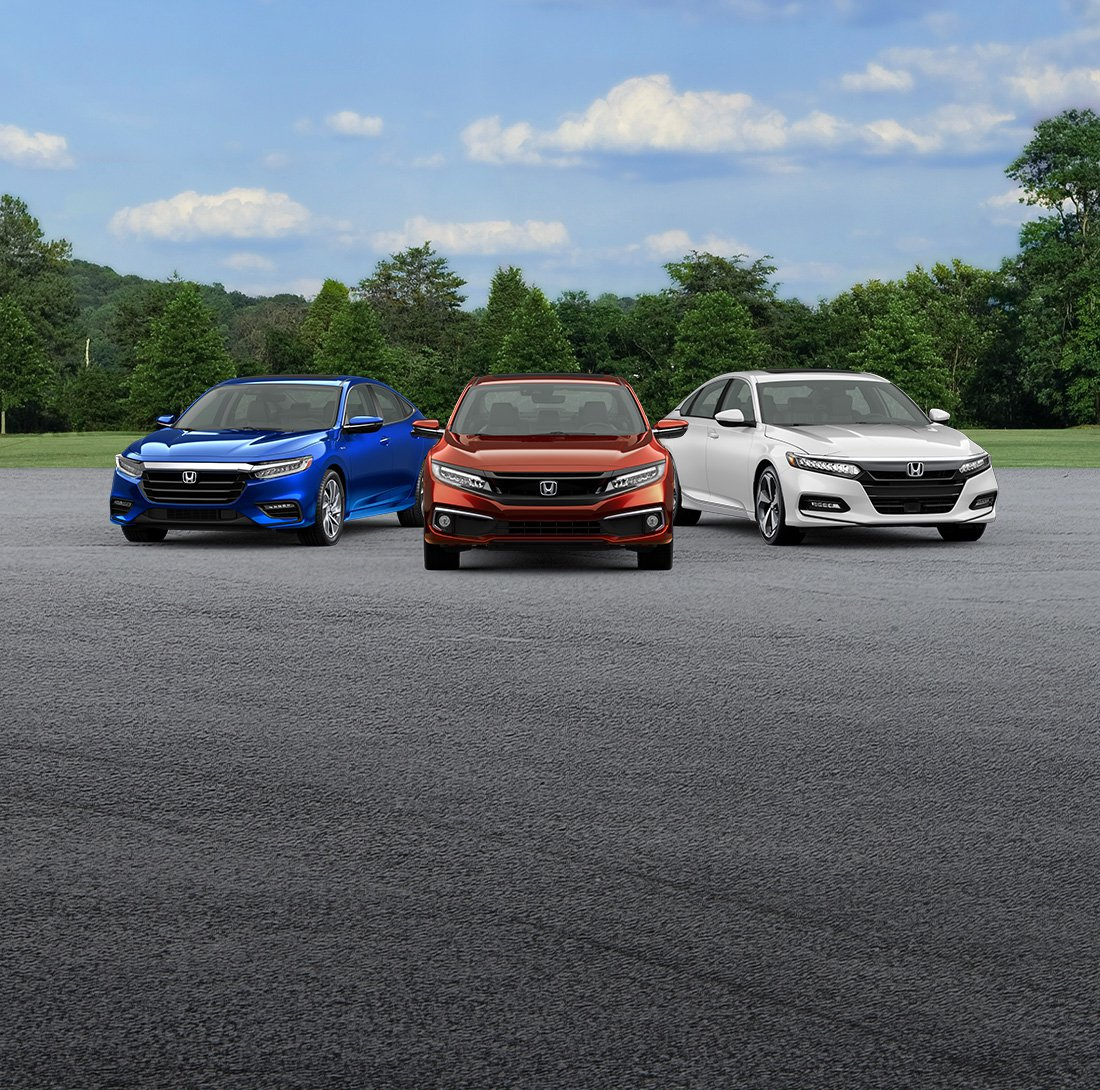car: (644, 362, 1009, 546), (424, 364, 689, 572), (109, 374, 438, 541)
